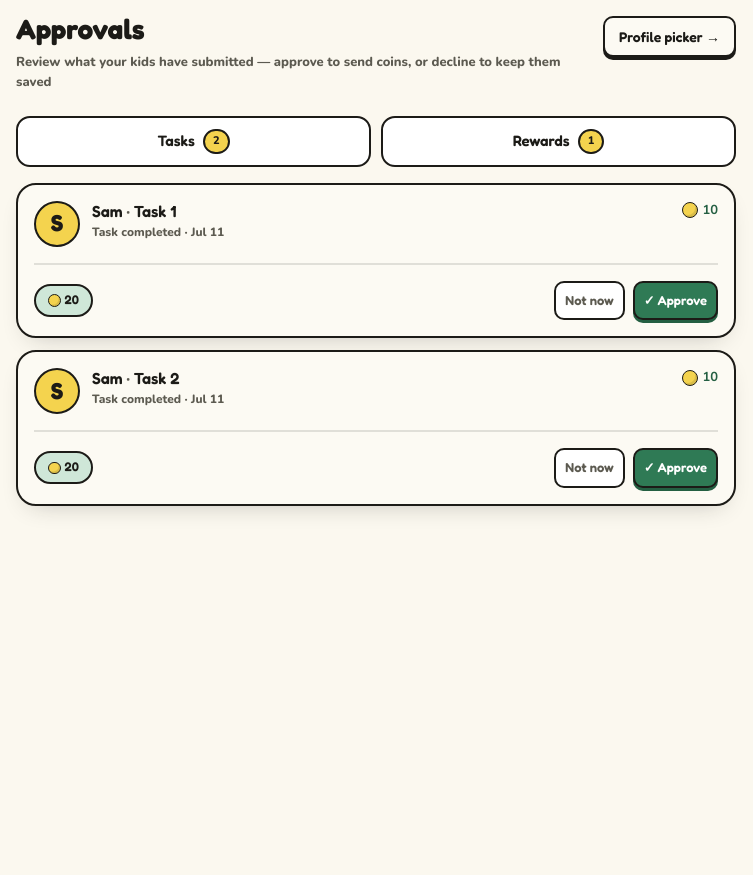
Scenario: ParentApprovalsPage › renders the kid's balance on each row and updates it on approval
Expected: the tab "Tasks 2" is shown, [16,116,371,166]
Expected: the number of pictures named "Sam's balance" is 2, [34,284,93,317]; [34,451,93,484]
Approving one 10-coin task credits Sam, so the remaining row's chip follows.
Step 1. Click the 1st button "✓ Approve" → {"x": 675, "y": 300}, box [633,280,718,320]
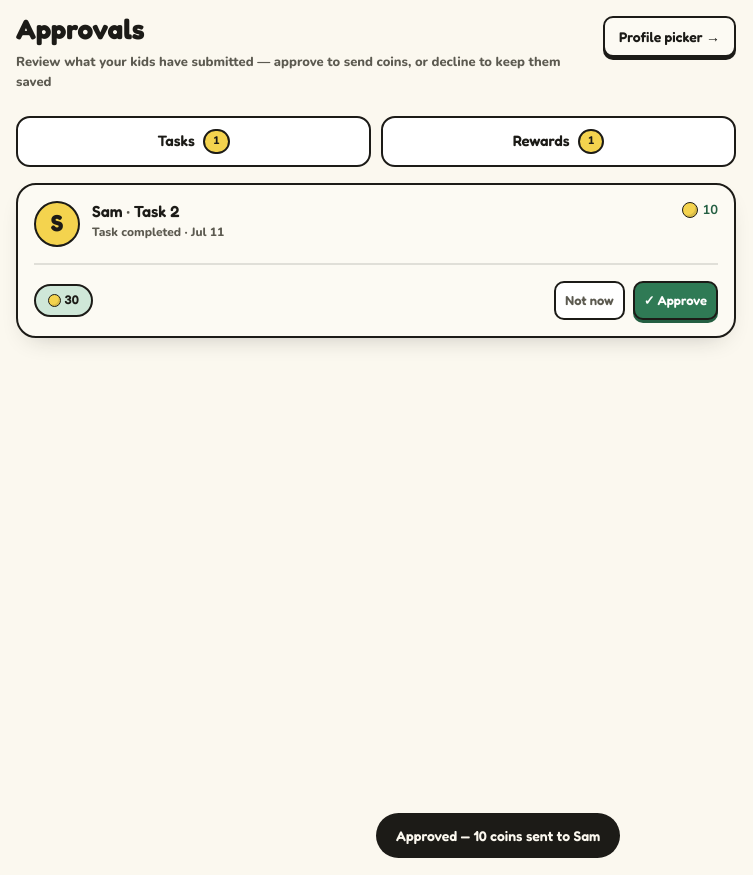
Now the number of pictures named "Sam's balance" is 1, box [34,284,93,317]
Now the picture named "Sam's balance" reads "30", box [64,292,79,307]
